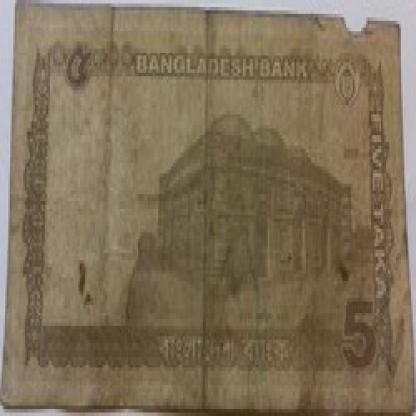Five Taka: (363, 97, 401, 305), (363, 97, 394, 281), (340, 277, 374, 371), (61, 35, 95, 100)
